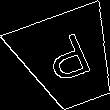P_S: (39, 29, 98, 90)
